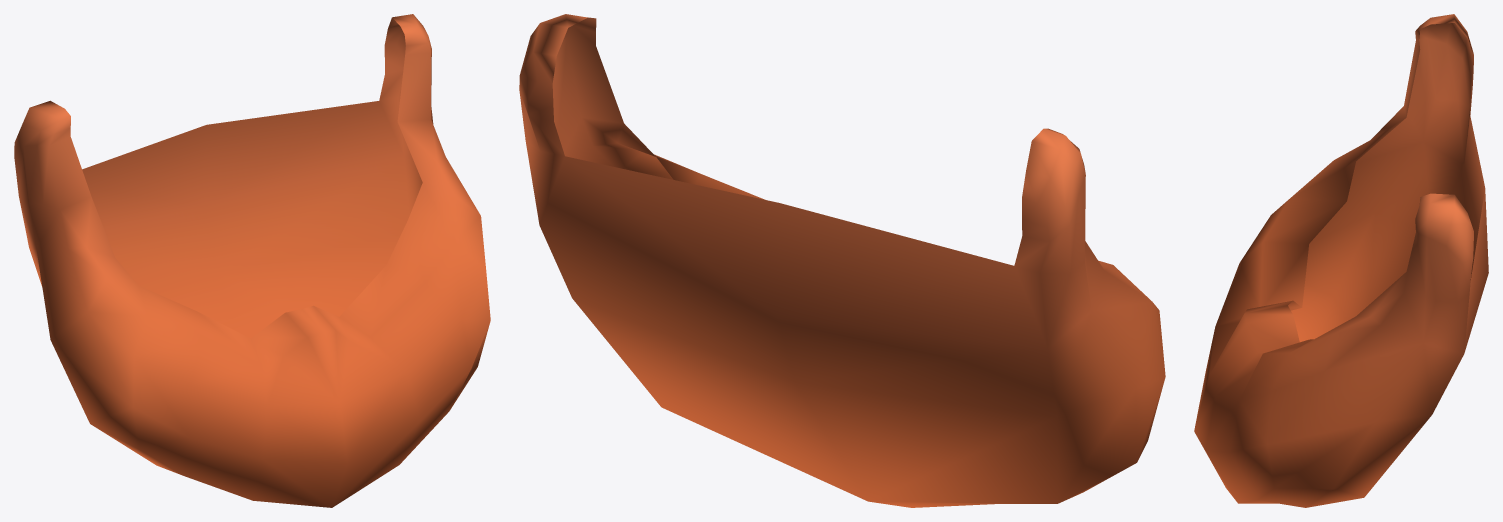
File: Mustache_26.fbx
3 renders of one model, left to right at view 1: azimuth 30°, elevation 25°; view 2: azimuth 150°, elevation 25°; view 3: azimuth 270°, elevation 25°, orthographic. The views are drawn at different scales.
Parts seen in each view (by area): view 1: Mustache_26; view 2: Mustache_26; view 3: Mustache_26.
Boxes of the visible parts, box(x1,y1,x2,y2) form: Mustache_26: box(14, 14, 490, 507); Mustache_26: box(519, 14, 1165, 507); Mustache_26: box(1194, 14, 1488, 507).
Size of the model in its own units: 54 by 46 by 31.97.
